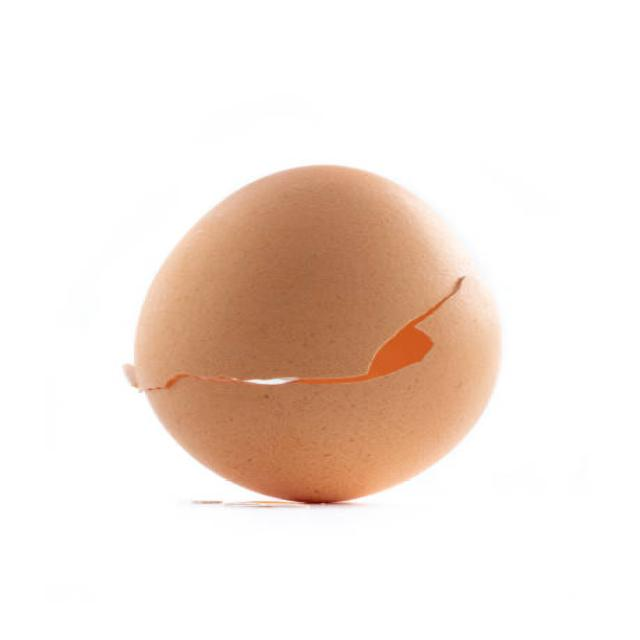Crack: (123, 263, 508, 404)
Egg: (109, 158, 518, 516)
